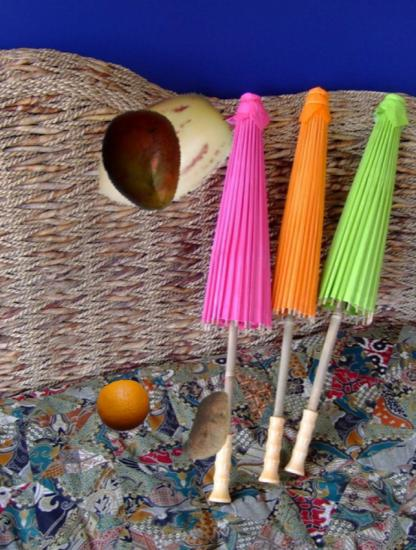Mango: (91, 108, 198, 215)
Orange: (95, 378, 151, 434)
Pepino: (87, 78, 237, 228)
Potato: (172, 388, 249, 465)
